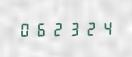four: (98, 19, 113, 36)
six: (33, 20, 48, 37)
three: (66, 20, 81, 36)
two: (50, 20, 65, 37), (82, 19, 97, 36)
zero: (17, 20, 32, 37)
